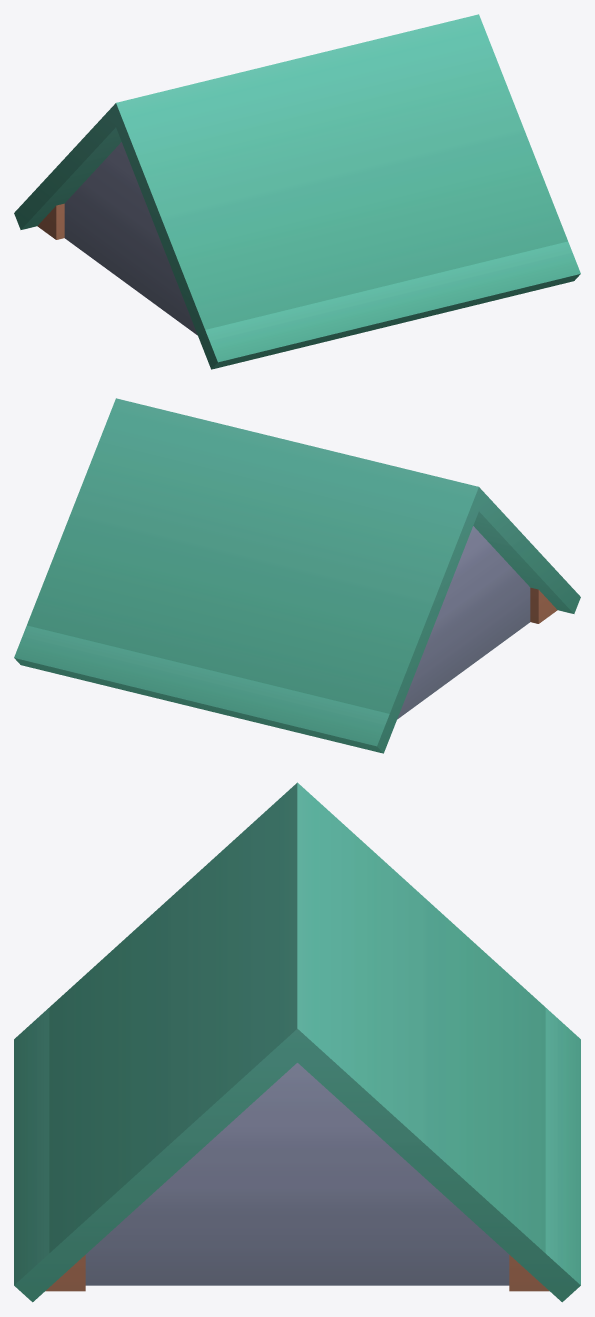
File: ot-roof-gable.glb
3 views of the same model, one above another, from view 1: azimuth 30°, elevation 25°; view 2: azimuth 150°, elevation 25°; view 3: azimuth 270°, elevation 25° (orthographic). The views are drawn at different scales.
Parts seen in each view (by area): view 1: roof-gable; view 2: roof-gable; view 3: roof-gable.
Part boxes in pixels (x1,y1,x2,y2): roof-gable: (14,14,580,369); roof-gable: (14,398,580,753); roof-gable: (14,782,580,1302).
Size of the model in its own units: 1.1 by 0.5708 by 1.07.
1 material, 1 textured.
